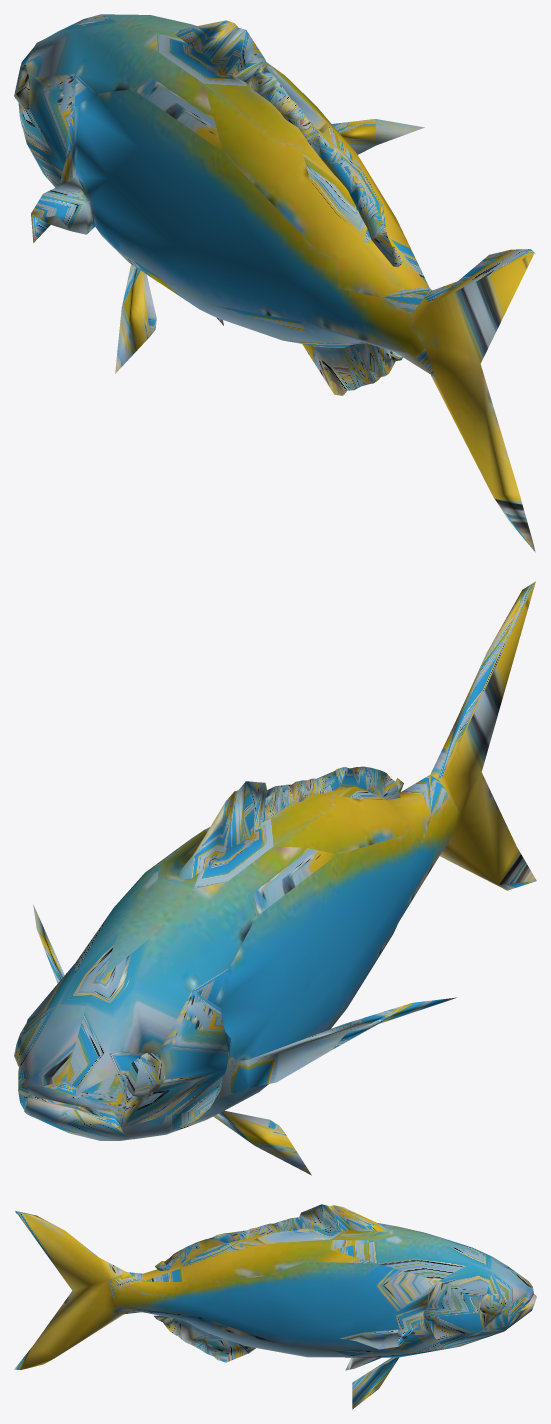
The model's file is fuselier-ver.glb.
3 renders of one model, top to bottom at view 1: azimuth 30°, elevation 25°; view 2: azimuth 150°, elevation 25°; view 3: azimuth 270°, elevation 25°, orthographic. The views are drawn at different scales.
Parts seen in each view (by area): view 1: tripo_node_32f512d8-82d8-42df-9b5a-e35bcbfa3671; view 2: tripo_node_32f512d8-82d8-42df-9b5a-e35bcbfa3671; view 3: tripo_node_32f512d8-82d8-42df-9b5a-e35bcbfa3671.
Boxes of the visible parts, bbox=[...] form: tripo_node_32f512d8-82d8-42df-9b5a-e35bcbfa3671: bbox=[14, 14, 535, 552]; tripo_node_32f512d8-82d8-42df-9b5a-e35bcbfa3671: bbox=[14, 581, 536, 1175]; tripo_node_32f512d8-82d8-42df-9b5a-e35bcbfa3671: bbox=[14, 1204, 536, 1409].
Size of the model in its own units: 0.3642 by 0.294 by 0.7612.
1 material, 1 textured.
